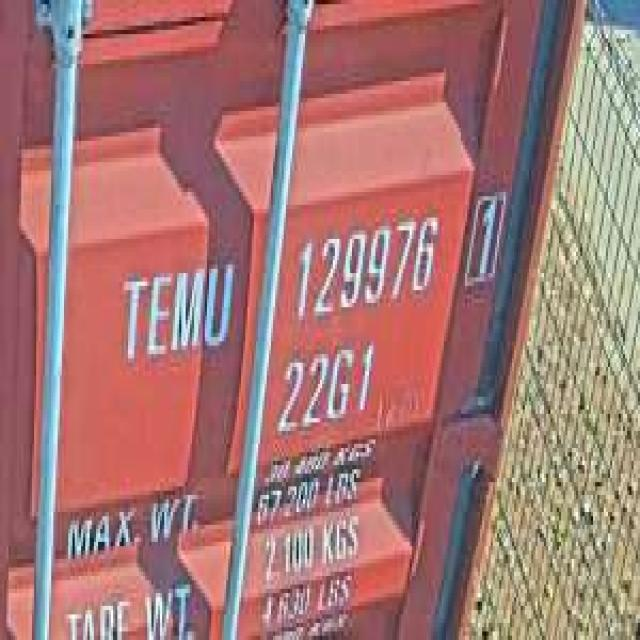dv: (461, 171, 508, 294)
owner: (113, 252, 237, 371)
serial: (288, 209, 439, 324)
size: (273, 337, 376, 431)
